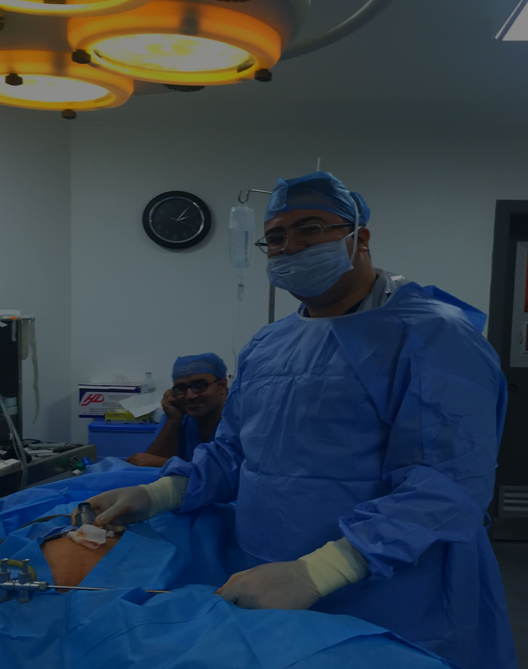mask_weared_incorrect: (248, 176, 371, 302)
